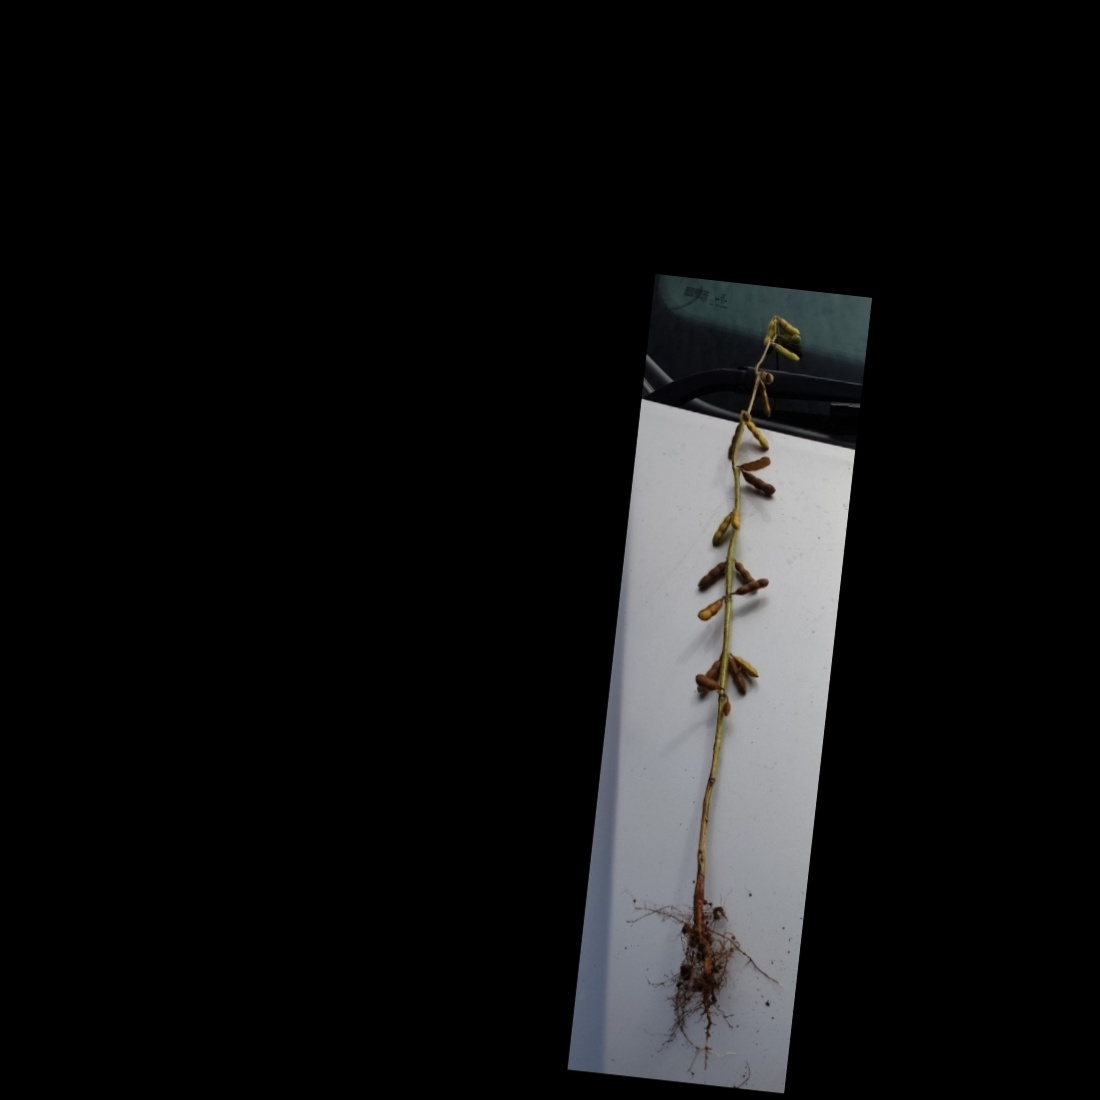pod: (736, 415, 773, 454), (734, 467, 780, 498), (722, 654, 752, 698), (707, 508, 735, 553), (695, 555, 729, 592), (729, 571, 771, 601), (750, 376, 776, 419), (693, 595, 727, 624), (725, 653, 762, 679), (768, 313, 804, 339), (766, 339, 802, 364)
soy: (637, 301, 842, 1028)
